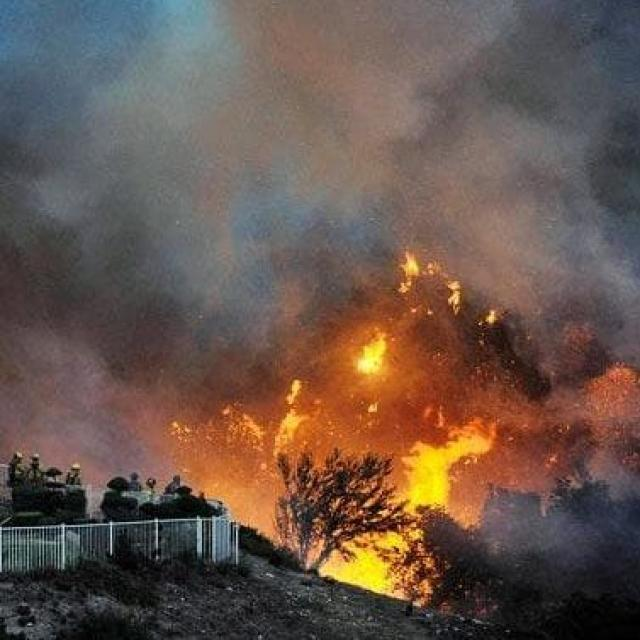Fire: (159, 198, 564, 590)
Smoke: (7, 0, 640, 483)
